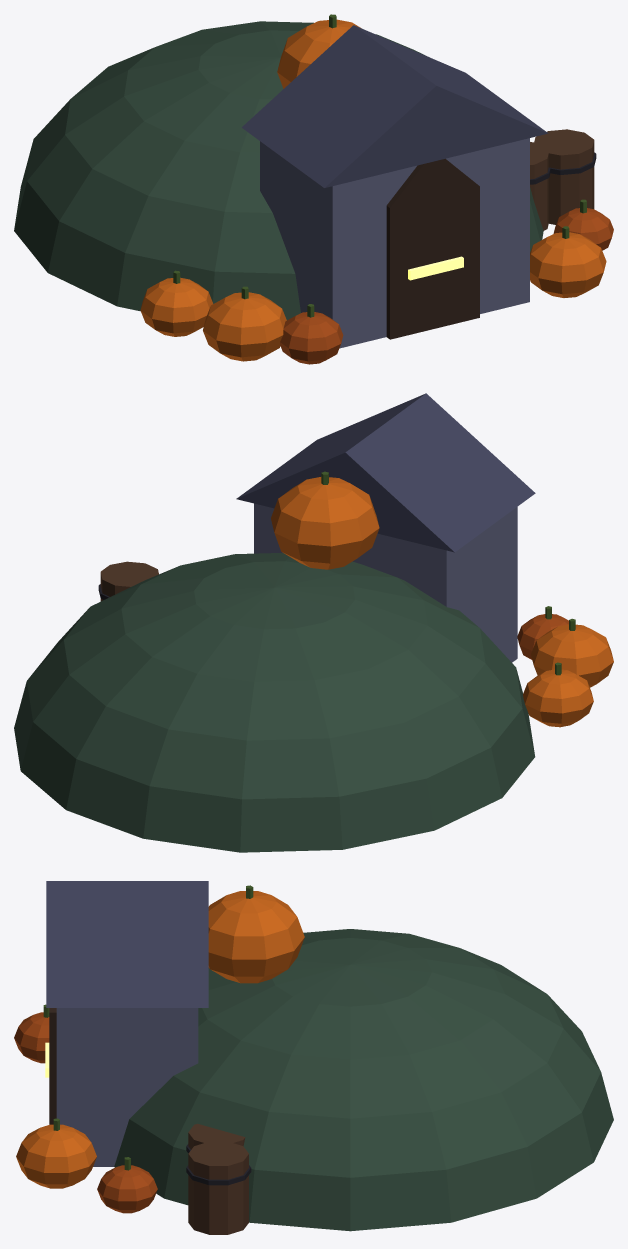
The model's file is s3-pumpkin-cellar.glb.
3 renders of one model, top to bottom at view 1: azimuth 30°, elevation 25°; view 2: azimuth 150°, elevation 25°; view 3: azimuth 270°, elevation 25°, orthographic. The views are drawn at different scales.
Parts seen in each view (by area): view 1: cw_paint, cw_glow; view 2: cw_paint; view 3: cw_paint.
Part boxes in pixels (bbox=[...]): cw_paint: bbox=[14, 14, 613, 364]; cw_glow: bbox=[408, 256, 463, 280]; cw_paint: bbox=[14, 393, 613, 852]; cw_paint: bbox=[14, 881, 613, 1234].
Bounding box in the file's own units: 5.3 × 2.6 × 5.92.
